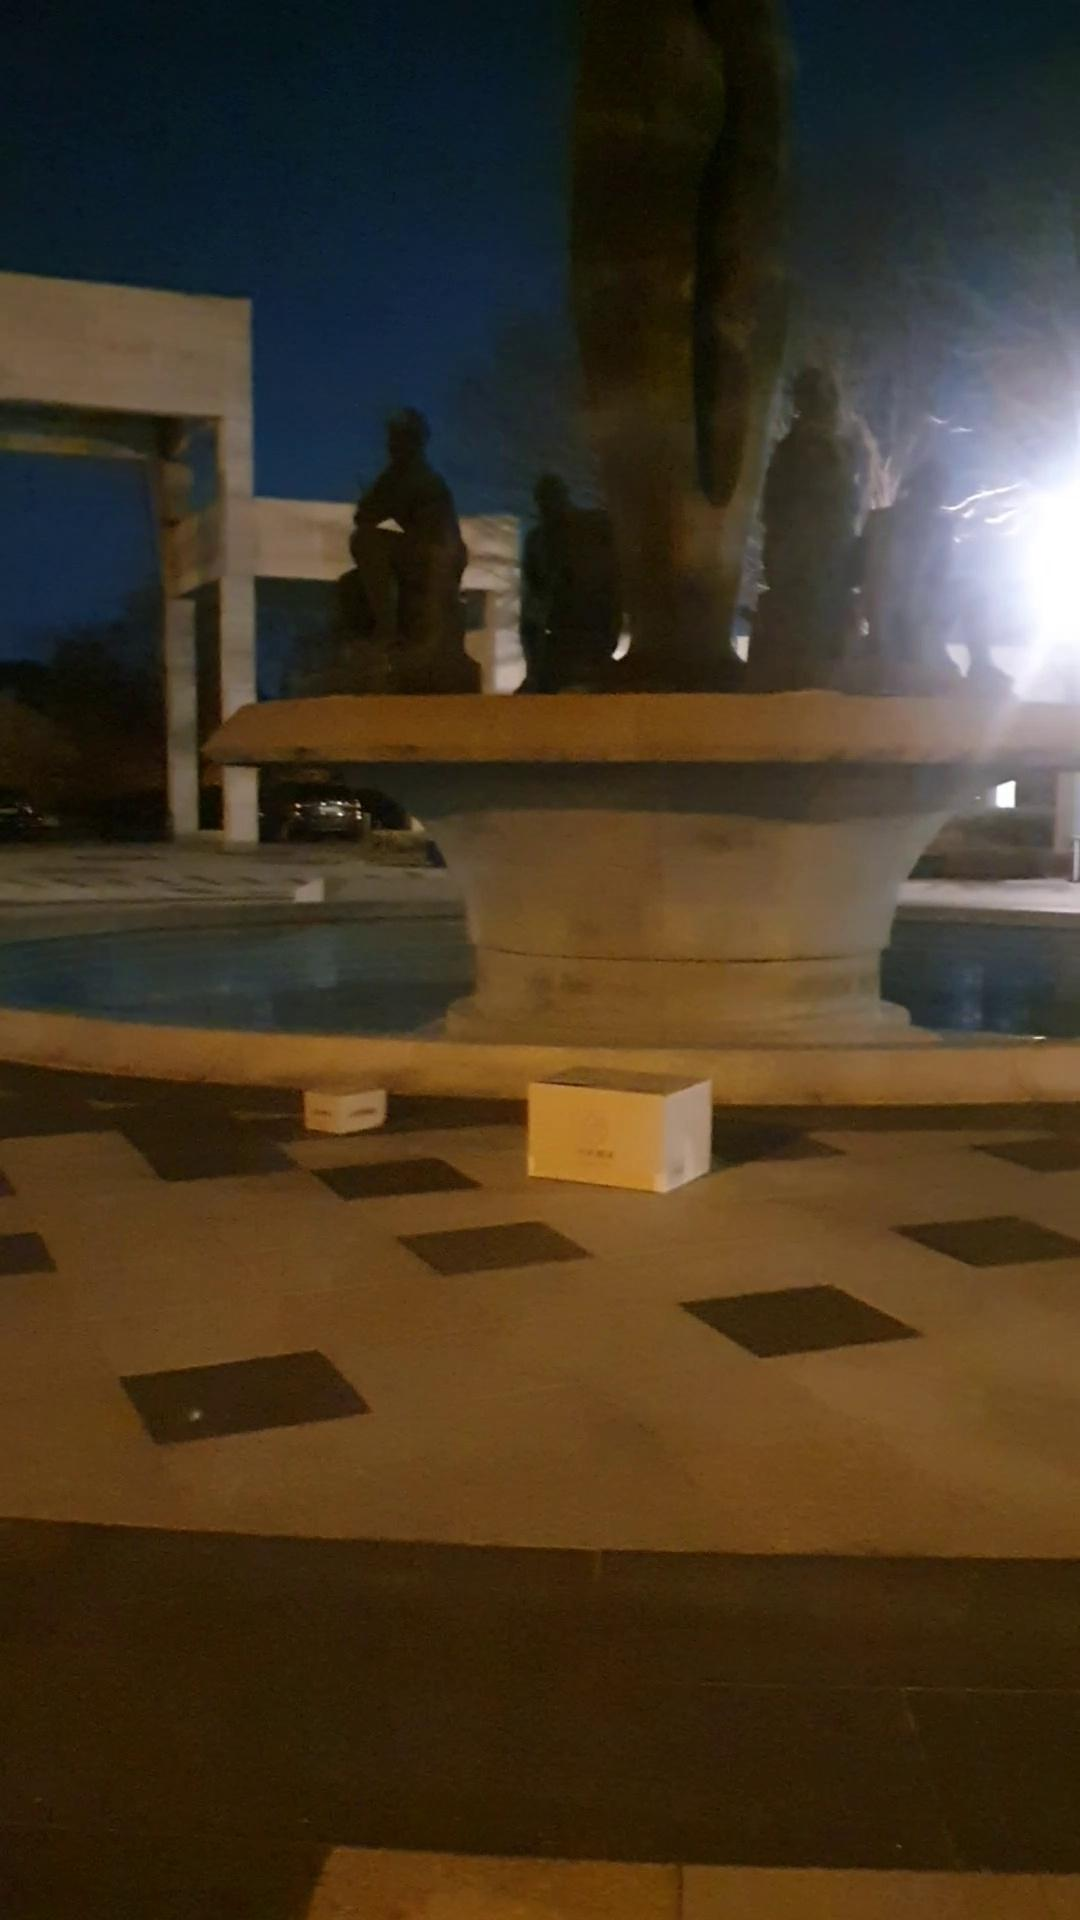Box: (512, 1044, 735, 1217), (295, 1063, 400, 1153)
